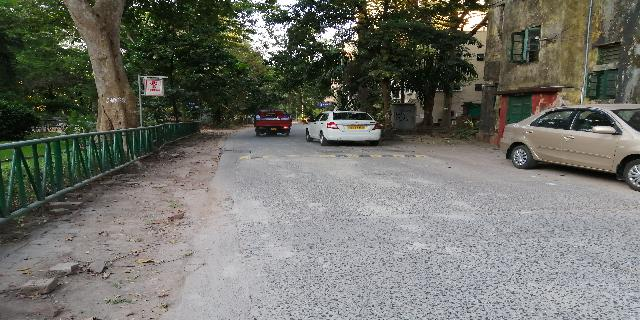Car: (494, 100, 640, 190), (305, 106, 385, 148)
Minitruck: (249, 104, 296, 140)
